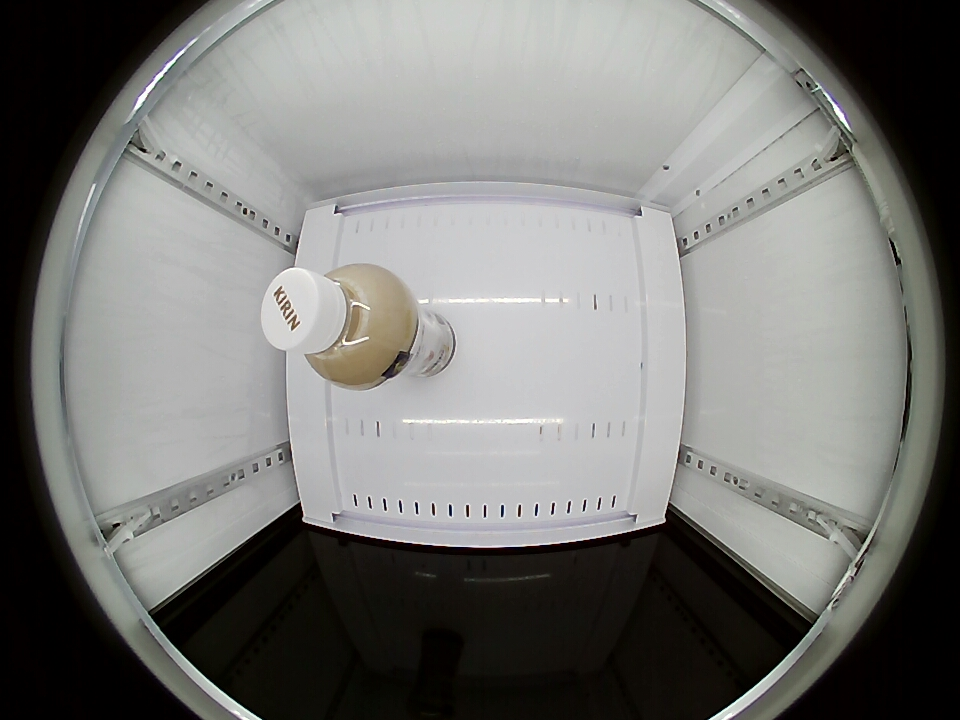wuhounaicha: (261, 263, 413, 388)
